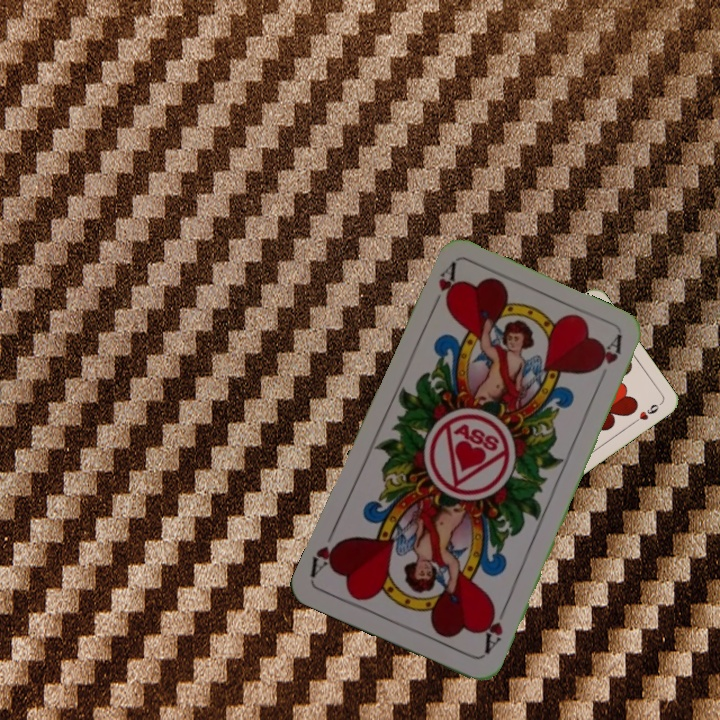HA: (426, 260, 462, 316), (479, 601, 510, 657)
